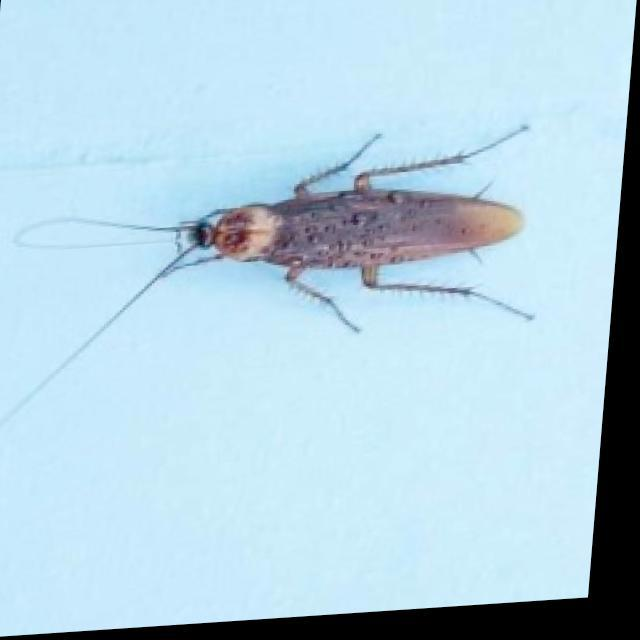cockroach: (152, 156, 533, 320)
